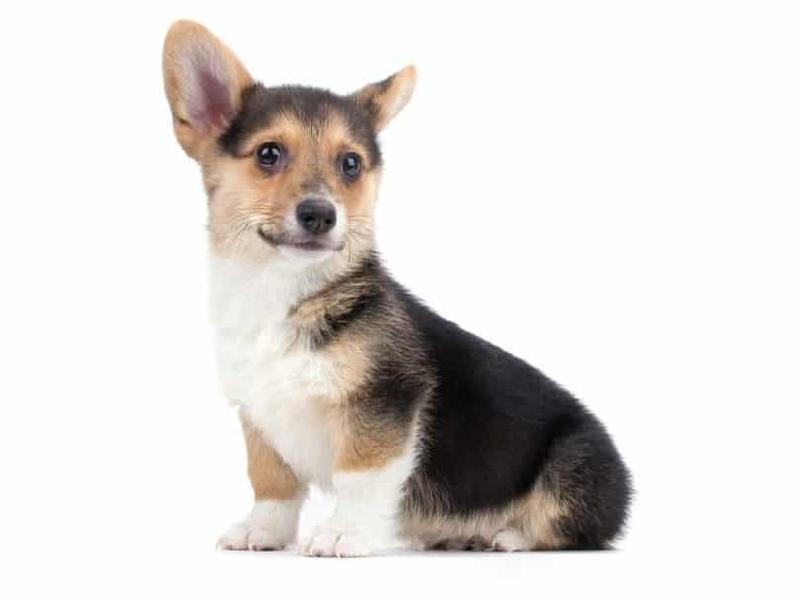corgi: (156, 17, 424, 270)
